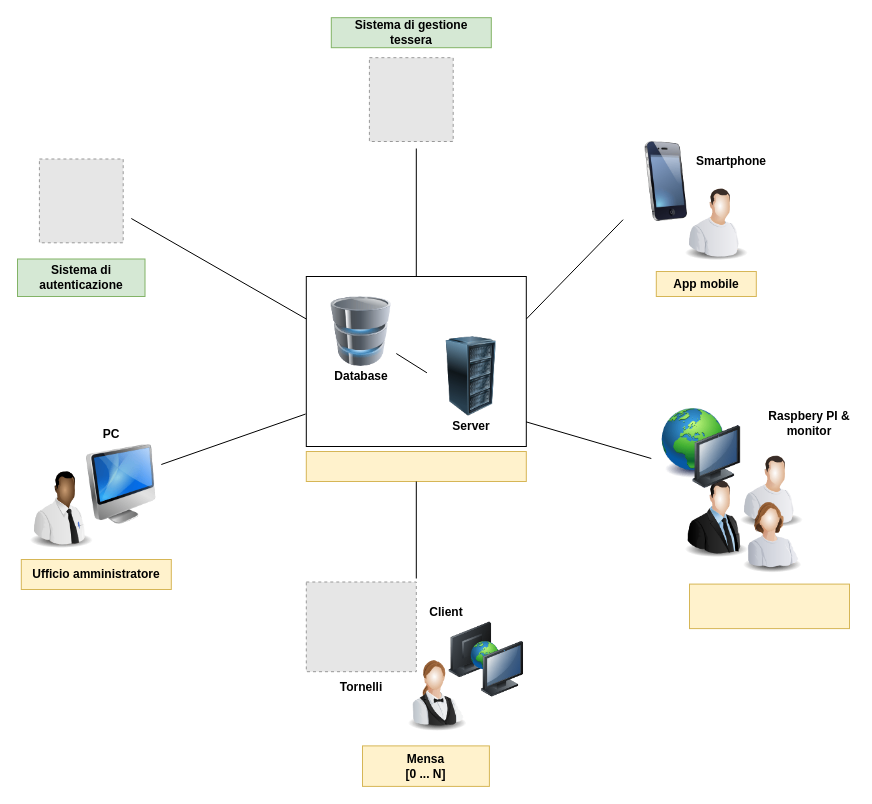
The diagram is 872 pixels wide and 804 high, and some of its shapes have lost their labels. Grey dashed boxes stand in for pictures. Each missing label, with the centre of its shape:
Dashboard campus [0 ... N]: point 769,606
Sistema informativo centrale: point 415,466
